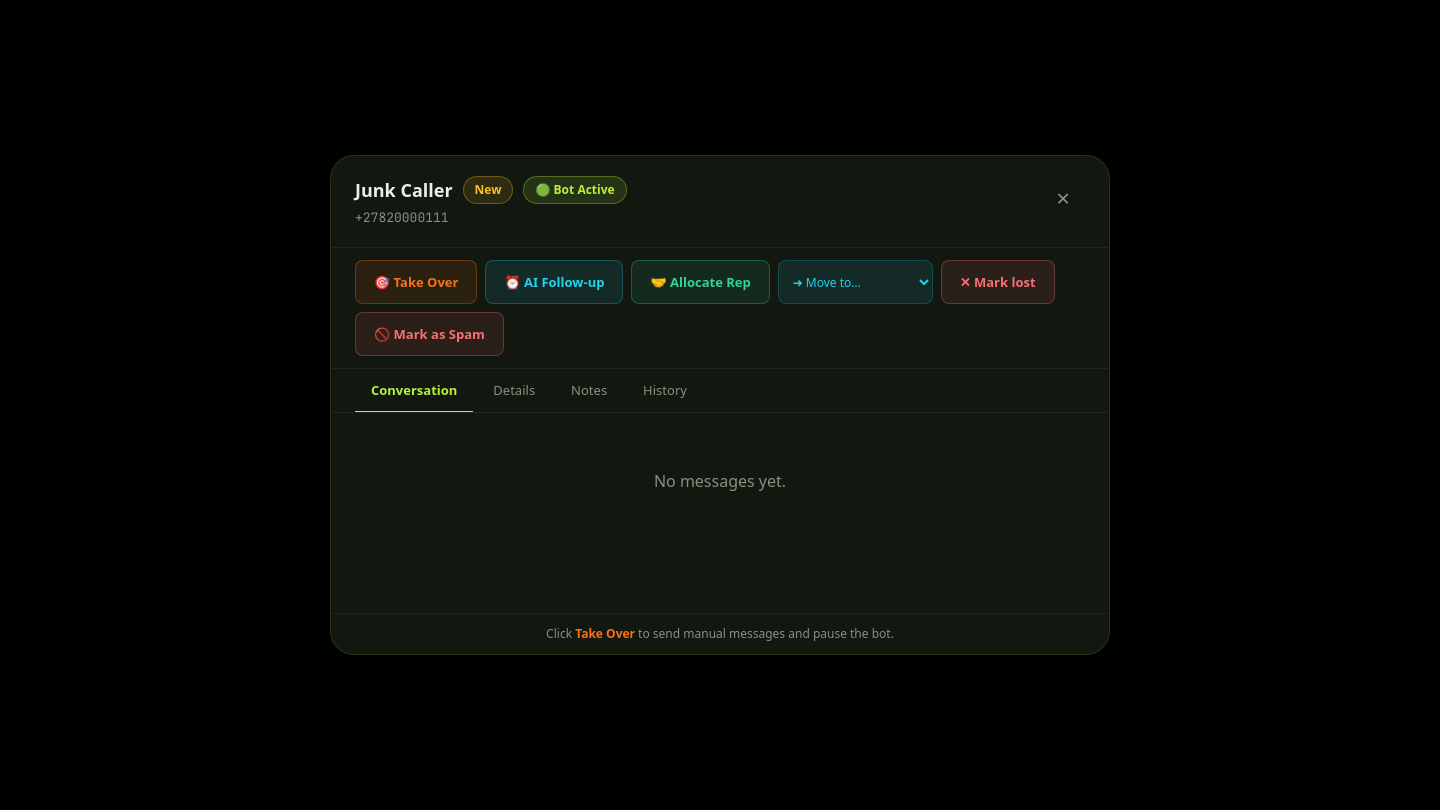
LeadDetailModal — the actions that destroy state › spam › does NOT post on the first click — it asks first
Click the button "🚫 Mark as Spam": point(429, 334) [355,312,504,356]
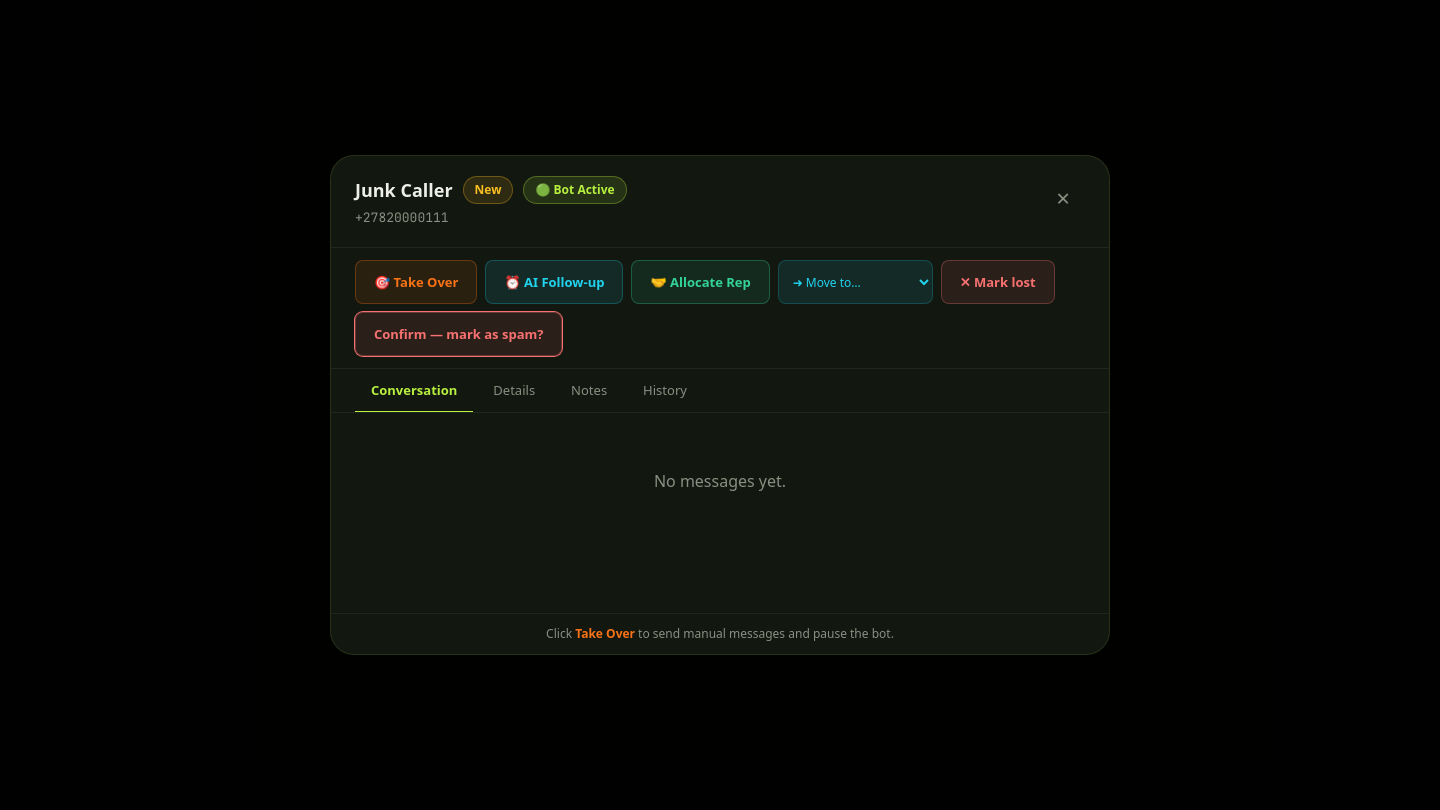
Now the button "Confirm — mark as spam?" is shown, box [355,312,562,356]
